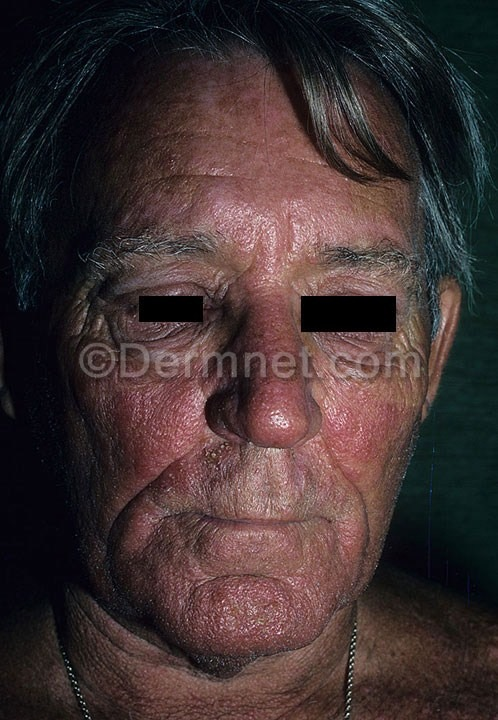Melasma: (120, 494, 354, 657), (87, 383, 409, 501), (155, 78, 291, 228), (235, 219, 296, 348)
